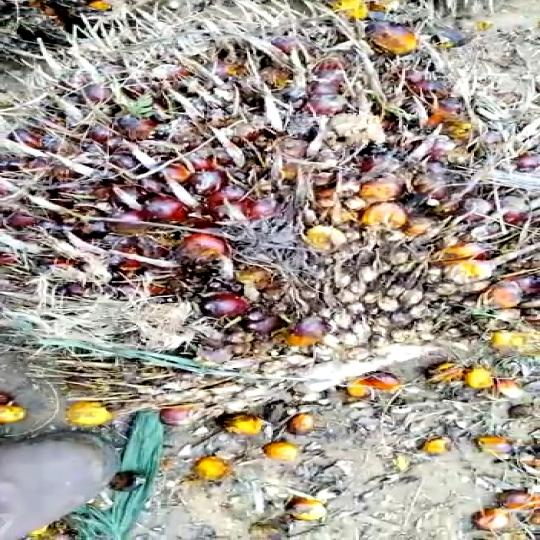masak: (0, 15, 540, 444)
